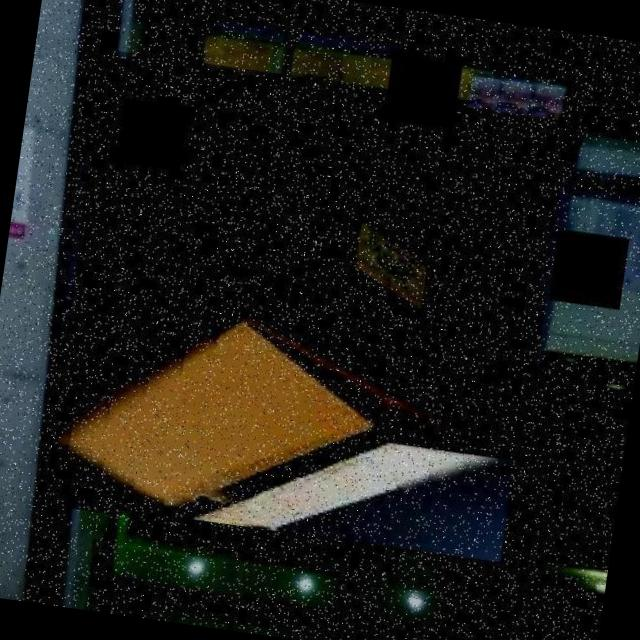box: (41, 49, 570, 570)
